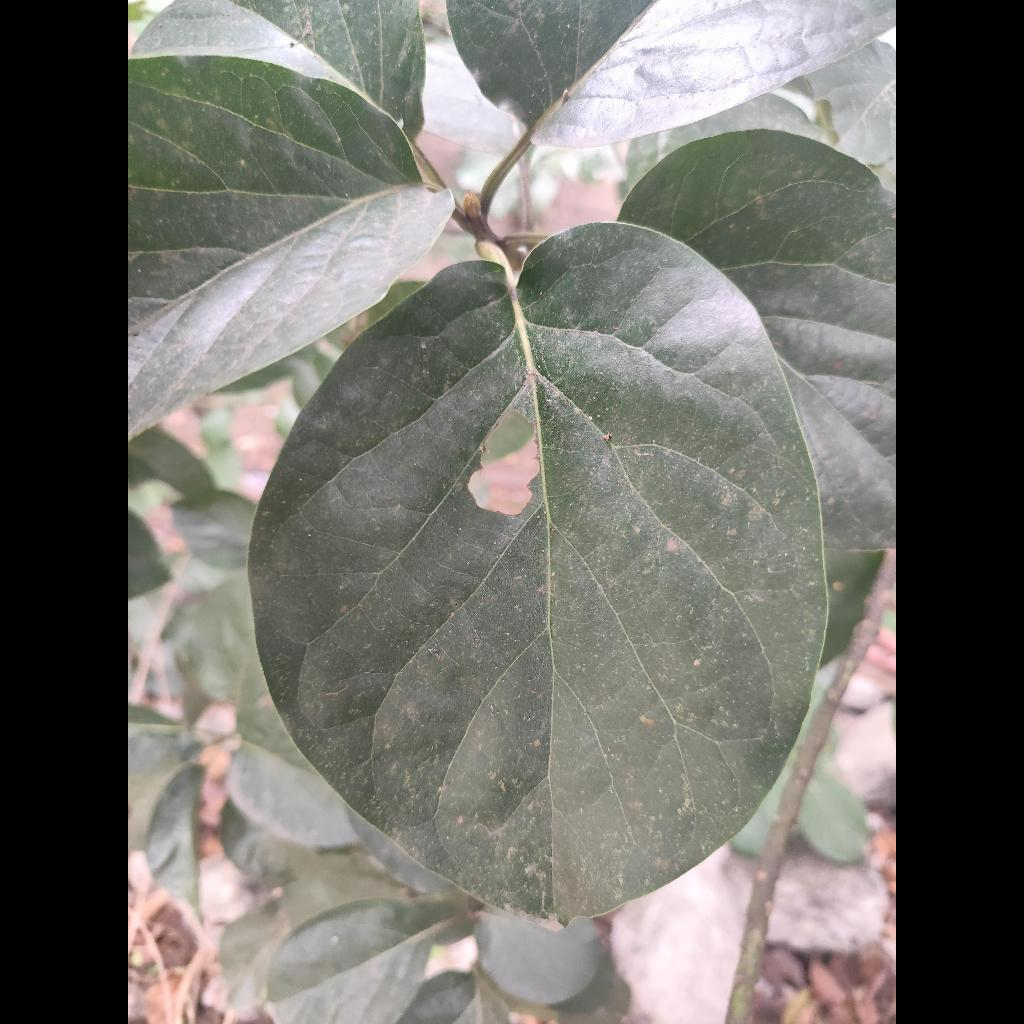plaga: (250, 224, 826, 923)
